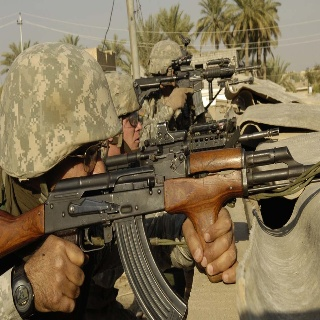rifle: (1, 147, 320, 320), (131, 57, 264, 117), (119, 119, 284, 155)
